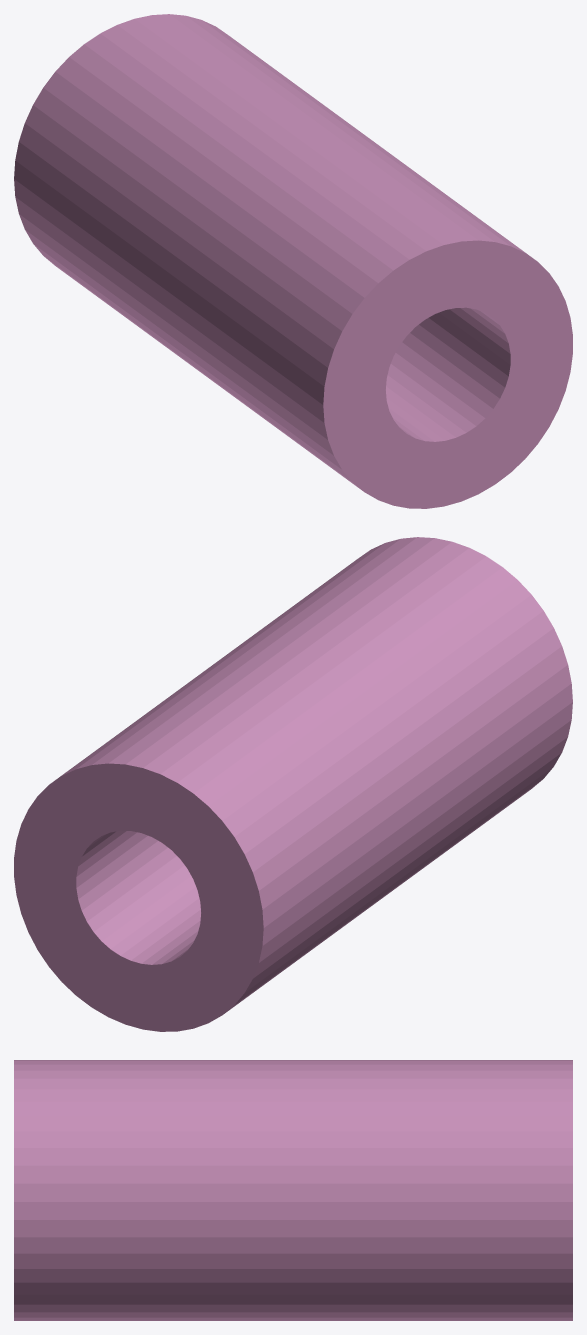
Rendered from case-05_lib00002.glb.
The picture shows the model from 3 angles, top to bottom: view 1: azimuth 30°, elevation 25°; view 2: azimuth 150°, elevation 25°; view 3: azimuth 270°, elevation 25°; orthographic projection. The views are drawn at different scales.
Visible parts, largest first — view 1: lib00002; view 2: lib00002; view 3: lib00002.
Part boxes in pixels (x1,y1,x2,y2): lib00002: (14, 14, 572, 508); lib00002: (14, 537, 572, 1031); lib00002: (14, 1060, 572, 1320).
Size of the model in its own units: 36.36 by 36.38 by 78.
